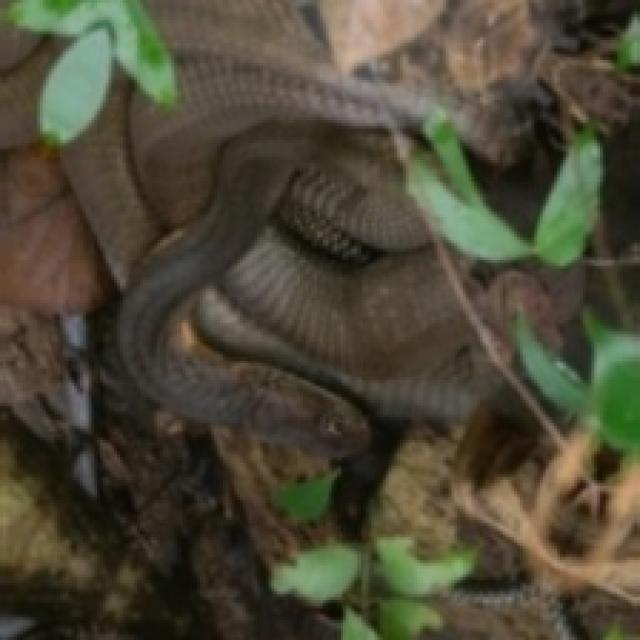king cobra: (117, 120, 497, 454)
